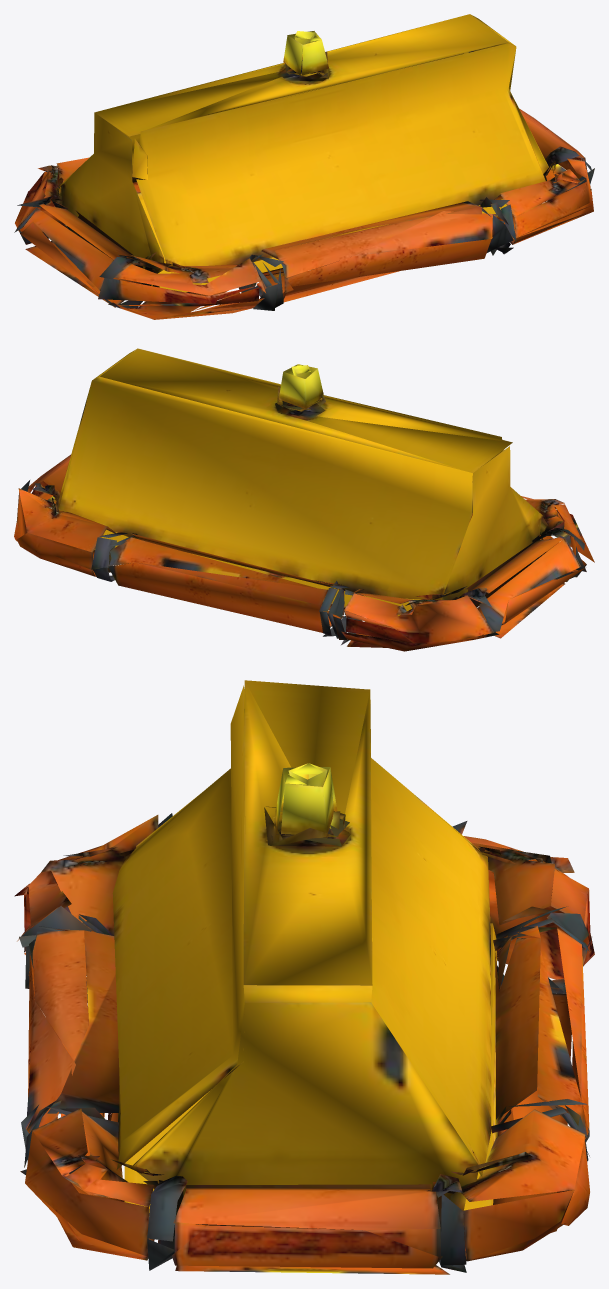
Rendered from Banda.glb.
3 views of the same model, one above another, from view 1: azimuth 30°, elevation 25°; view 2: azimuth 150°, elevation 25°; view 3: azimuth 270°, elevation 25° (orthographic). The views are drawn at different scales.
Parts seen in each view (by area): view 1: node_0; view 2: node_0; view 3: node_0.
Boxes of the visible parts, x1,y1,x2,y2 form: node_0: [14, 14, 594, 319]; node_0: [14, 348, 594, 651]; node_0: [14, 680, 594, 1274].
Bounding box in the file's own units: 1.12 × 0.4247 × 0.6796.
Materials: 1 (1 with a texture image).
